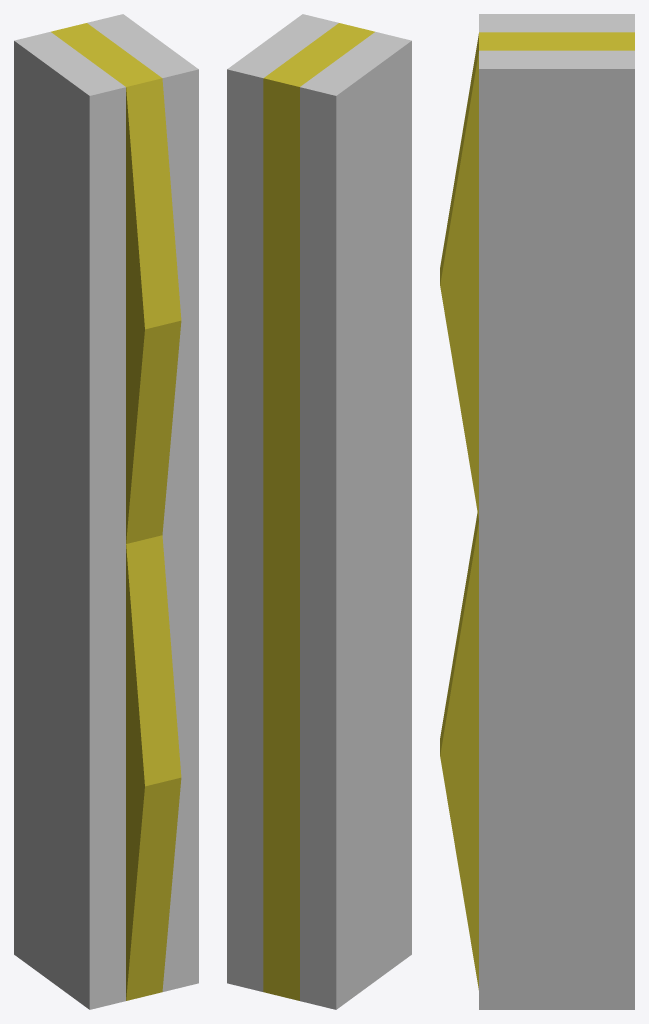
File: WallStraight2.fbx
3 renders of one model, left to right at view 1: azimuth 30°, elevation 25°; view 2: azimuth 150°, elevation 25°; view 3: azimuth 270°, elevation 25°, orthographic. The views are drawn at different scales.
Visible parts, largest first — view 1: Cube; view 2: Cube; view 3: Cube.
Part boxes in pixels (x1,y1,x2,y2): Cube: (14, 14, 198, 1009); Cube: (227, 14, 411, 1009); Cube: (440, 14, 634, 1009).
Size of the model in its own units: 50 by 400 by 75.
